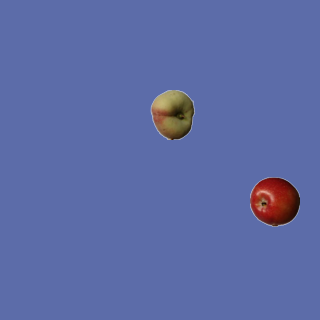Apple Braeburn: (249, 176, 299, 226)
Peach Flat: (147, 89, 197, 139)
